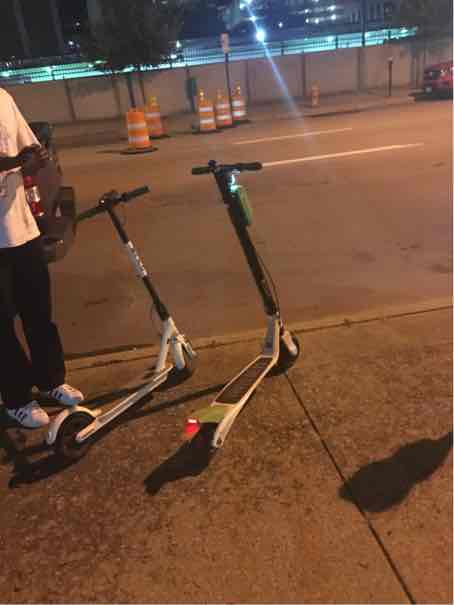scooter: (156, 149, 304, 481), (47, 172, 202, 471)
